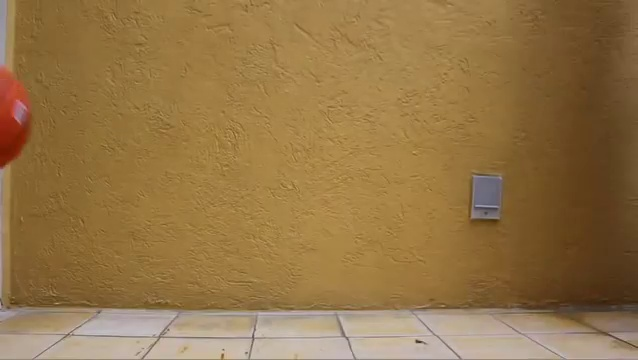ball: (1, 65, 33, 170)
